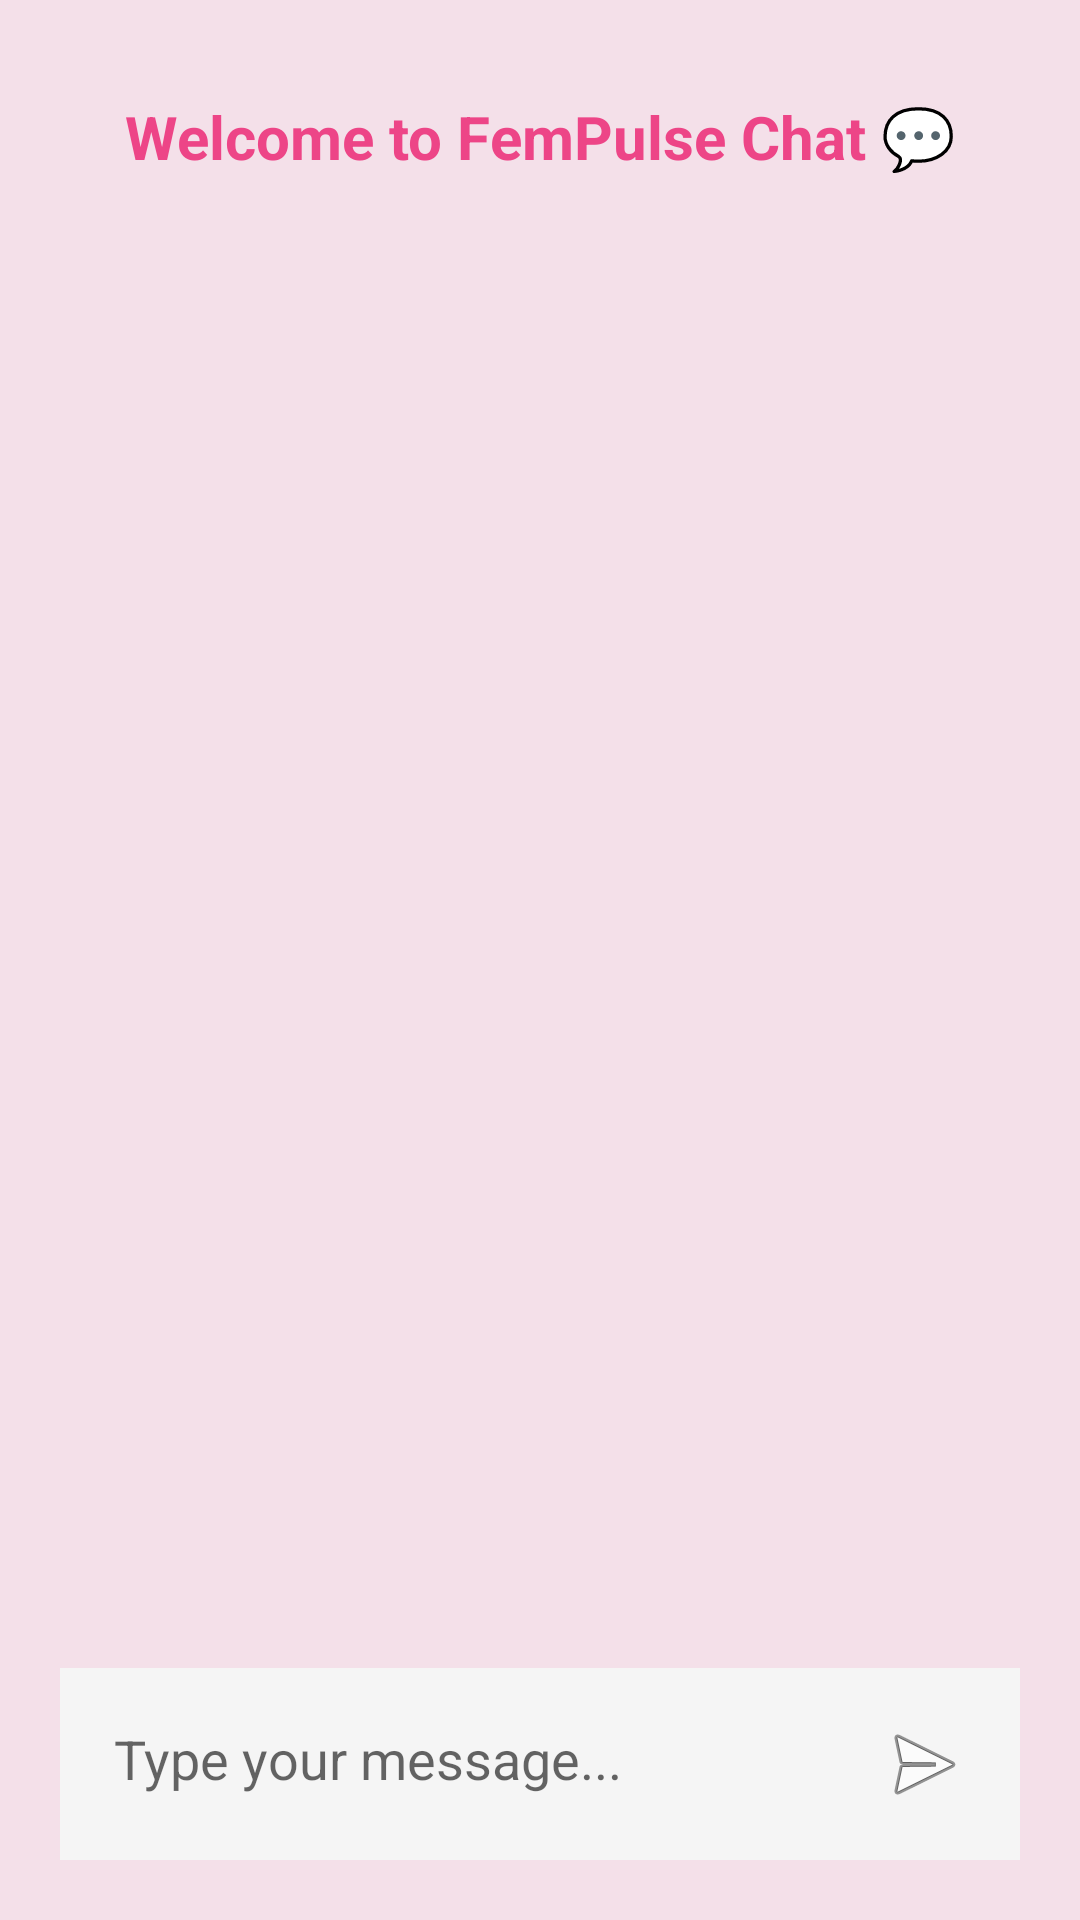

Where to tap for icons on this 1080 × 1920 app screen, as (x,y):
Send: (925,1764)
